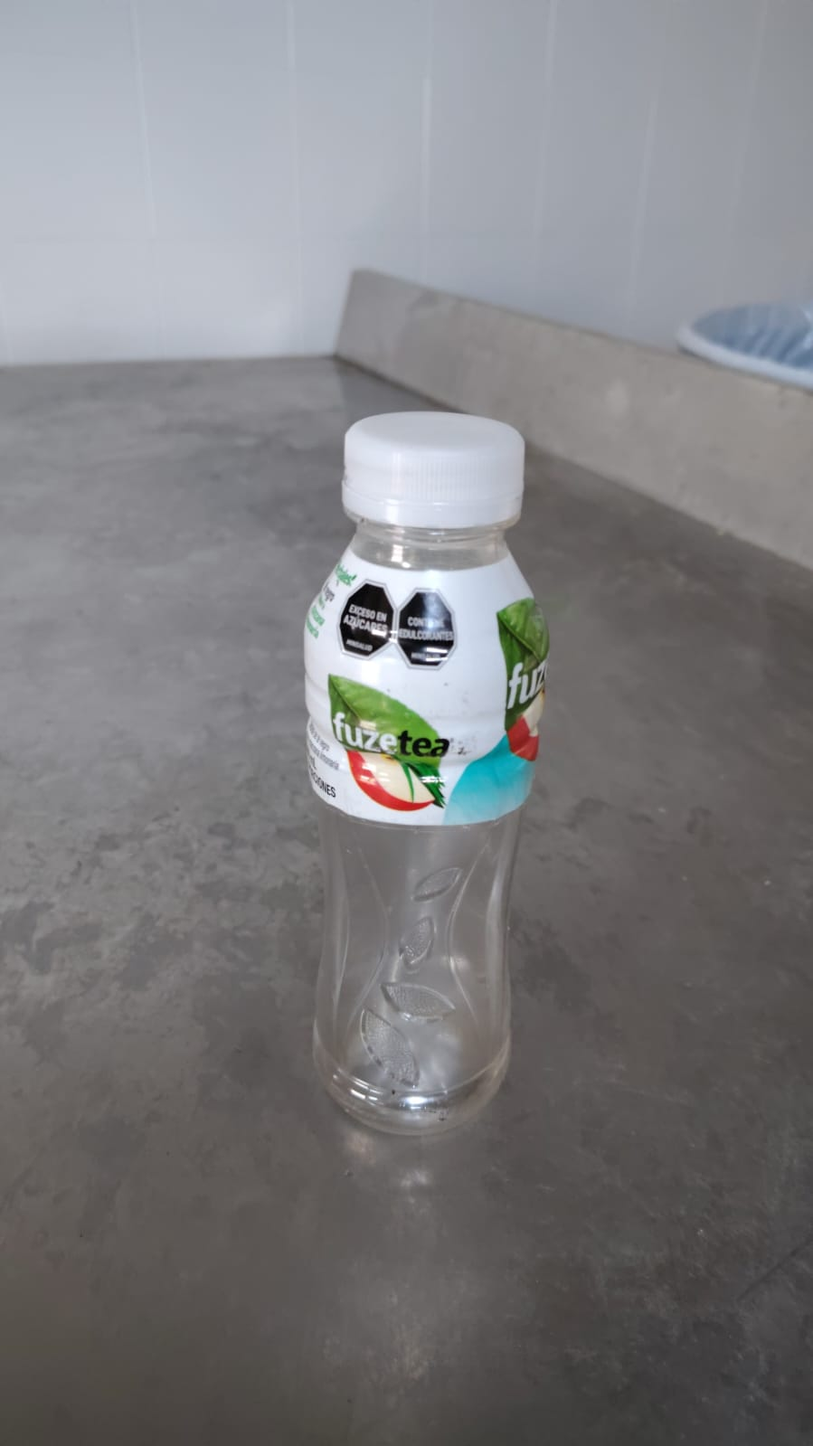Plastico: (303, 407, 551, 1143)
